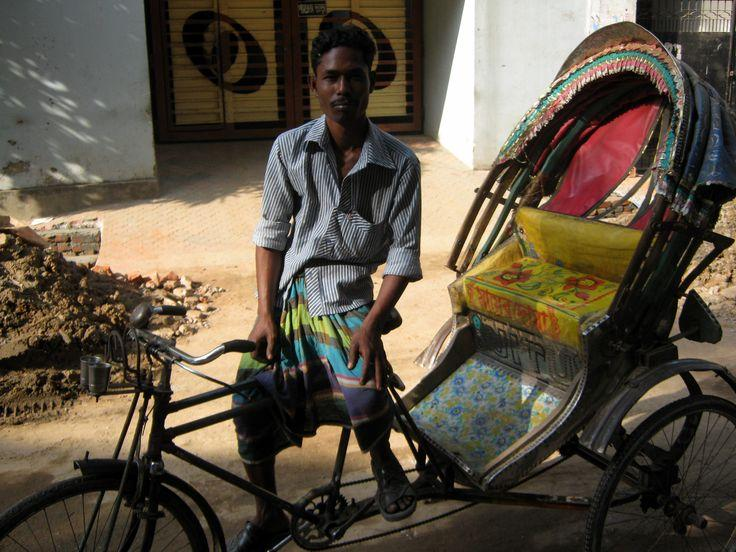Rickshaw: (383, 23, 735, 551), (0, 304, 379, 551)
